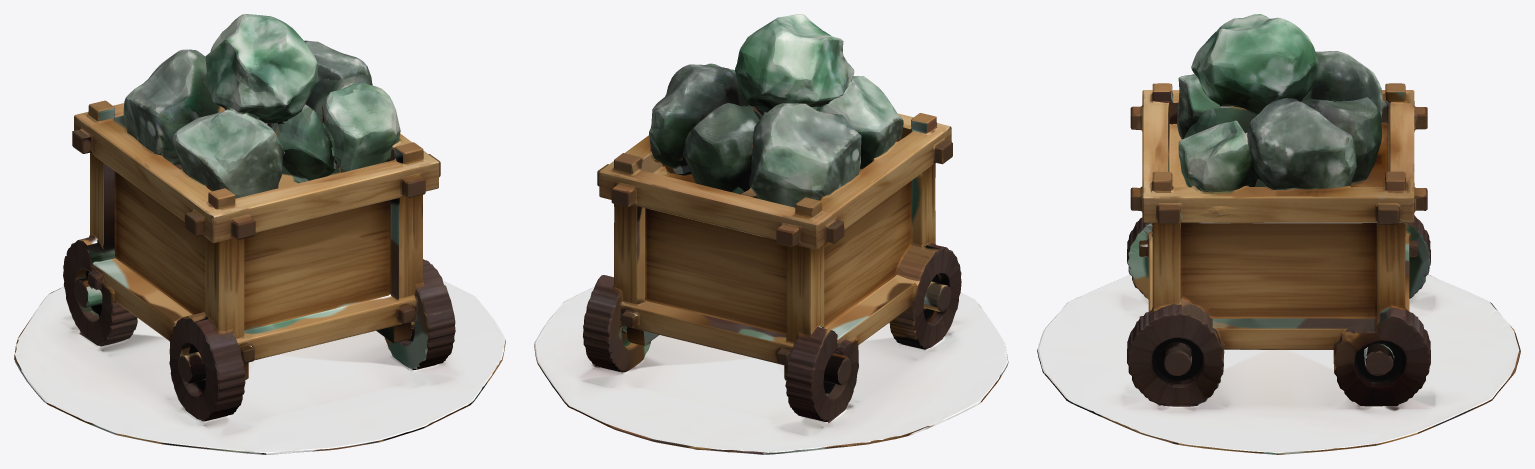
File: traveler_env_coast_iuchi_mine_cart_00001_.glb
3 views of the same model, side by side, from view 1: azimuth 30°, elevation 25°; view 2: azimuth 150°, elevation 25°; view 3: azimuth 270°, elevation 25° (orthographic). The views are drawn at different scales.
Parts seen in each view (by area): view 1: temp_mesh.ply; view 2: temp_mesh.ply; view 3: temp_mesh.ply.
Boxes of the visible parts, bbox=[...] form: temp_mesh.ply: bbox=[14, 14, 505, 454]; temp_mesh.ply: bbox=[534, 14, 1008, 454]; temp_mesh.ply: bbox=[1037, 14, 1520, 454].
Bounding box in the file's own units: 1.97 × 1.49 × 1.97.
Materials: 1 (1 with a texture image).
